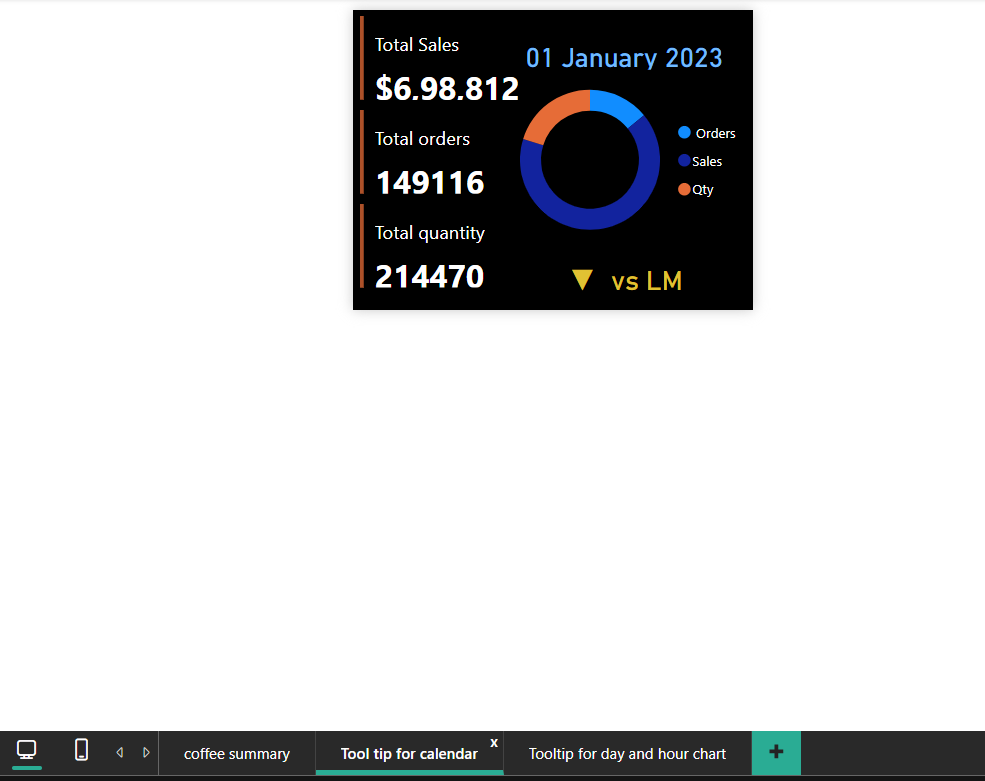

Layout of this report page (visuals, bound fields, positions):
{"tool":"powerbi","page":{"name":"Tool tip for calendar ","canvas":[320,240],"ordinal":1},"visuals":[{"type":"cardVisual","fields":{"Data":["Transactions.Total Sales","Transactions.Total orders","Transactions.Total quantity sold"]},"box":[0,0,152,229],"z":0},{"type":"donutChart","fields":{"Y":["Transactions.Total orders","Transactions.Total Sales","Transactions.Total quantity sold"]},"box":[114,38,206,164],"z":1000},{"type":"card","fields":{"Values":["Min(Date Table.Date)"]},"box":[131,23,171,30],"z":2000},{"type":"card","fields":{"Values":["Transactions.MoM growth & diff sales"]},"box":[114,202,206,27],"z":3000}]}

Visuals, with their boxes on the page's 320x240 design canvas (x1, y1, x2, y2). These are canvas units, not pixel positions in the 985x781 screenshot, which may show the page scaled, cropped or inside an application window:
cardVisual - Transactions.Total Sales x Transactions.Total orders: box=[0, 0, 152, 229]
donutChart - Transactions.Total orders x Transactions.Total Sales: box=[114, 38, 320, 202]
card - Min(Date Table.Date): box=[131, 23, 302, 53]
card - Transactions.MoM growth & diff sales: box=[114, 202, 320, 229]
